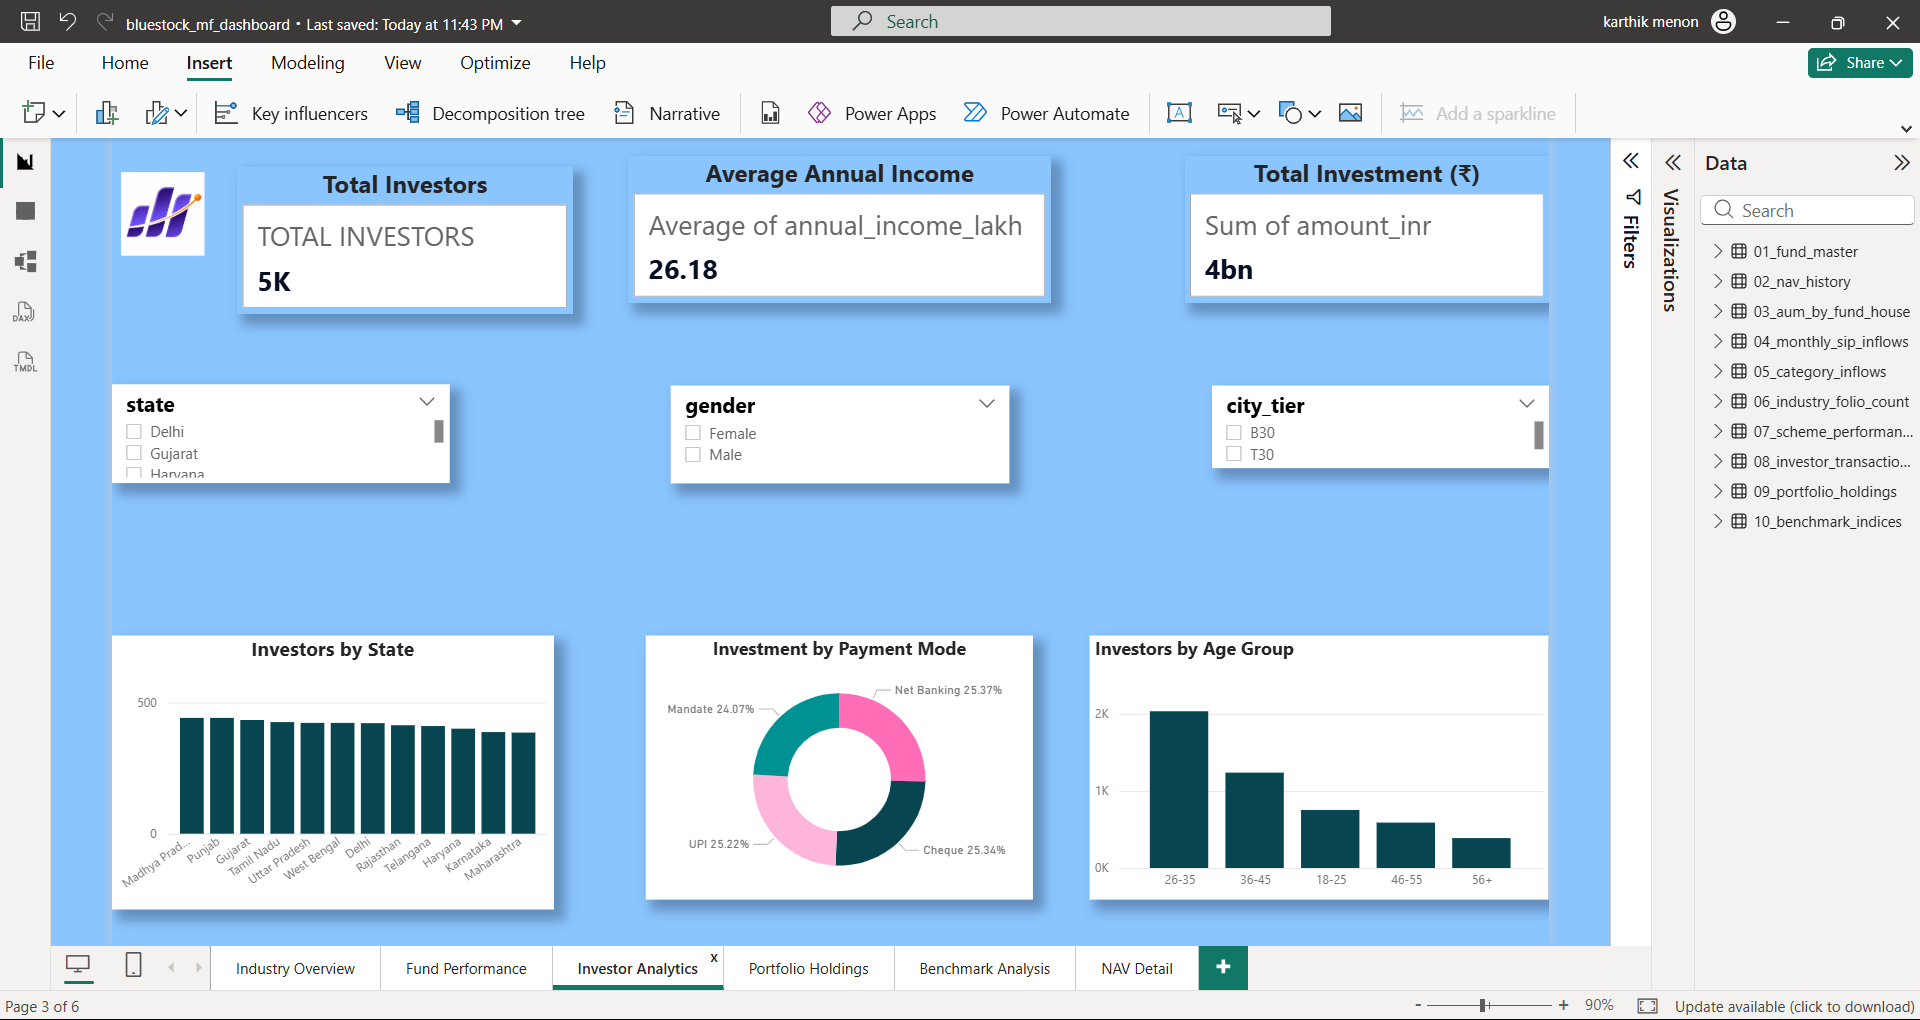

Layout of this report page (visuals, bound fields, positions):
{"tool":"powerbi","page":{"name":"Investor Analytics","canvas":[1280,720],"ordinal":2},"visuals":[{"type":"cardVisual","title":"Total Investors","fields":{"Data":["Count(08_investor_transactions.investor_id)"]},"box":[111,25.3,299.2,131.5],"z":0},{"type":"cardVisual","title":"Average Annual Income","fields":{"Data":["Avg(08_investor_transactions.annual_income_lakh)"]},"box":[459.8,15.9,376.6,130.8],"z":1000},{"type":"cardVisual","title":"Total Investment (₹)","fields":{"Data":["Sum(08_investor_transactions.amount_inr)"]},"box":[955,15.9,325.3,130.8],"z":2000},{"type":"slicer","fields":{"Values":["08_investor_transactions.state"]},"box":[0,219.6,300.4,88.1],"z":3000},{"type":"slicer","fields":{"Values":["08_investor_transactions.gender"]},"box":[497.1,220.8,301.6,86.9],"z":4000},{"type":"slicer","fields":{"Values":["08_investor_transactions.city_tier"]},"box":[979.6,220.8,300.4,73.6],"z":5000},{"type":"clusteredColumnChart","title":"Investors by State","fields":{"Category":["08_investor_transactions.state"],"Y":["Count(08_investor_transactions.investor_id)"]},"box":[0,442.8,393.3,243.7],"z":6000},{"type":"donutChart","title":"Investment by Payment Mode","fields":{"Category":["08_investor_transactions.payment_mode"],"Y":["Sum(08_investor_transactions.amount_inr)"]},"box":[475.3,442.8,345,235.3],"z":7000},{"type":"clusteredColumnChart","title":"Investors by Age Group","fields":{"Category":["08_investor_transactions.age_group"],"Y":["Count(08_investor_transactions.investor_id)"]},"box":[871.1,442.8,409,235.3],"z":8000},{"type":"image","box":[0,25.3,90.5,84.5],"z":8001}]}

Visuals, with their boxes on the page's 1280x720 design canvas (x1, y1, x2, y2). These are canvas units, not pixel positions in the 1920x1020 screenshot, which may show the page scaled, cropped or inside an application window:
"Total Investors" cardVisual: select_region(111, 25, 410, 157)
"Average Annual Income" cardVisual: select_region(460, 16, 836, 147)
"Total Investment (₹)" cardVisual: select_region(955, 16, 1280, 147)
slicer - 08_investor_transactions.state: select_region(0, 220, 300, 308)
slicer - 08_investor_transactions.gender: select_region(497, 221, 799, 308)
slicer - 08_investor_transactions.city_tier: select_region(980, 221, 1280, 294)
"Investors by State" clusteredColumnChart: select_region(0, 443, 393, 686)
"Investment by Payment Mode" donutChart: select_region(475, 443, 820, 678)
"Investors by Age Group" clusteredColumnChart: select_region(871, 443, 1280, 678)
image: select_region(0, 25, 90, 110)
